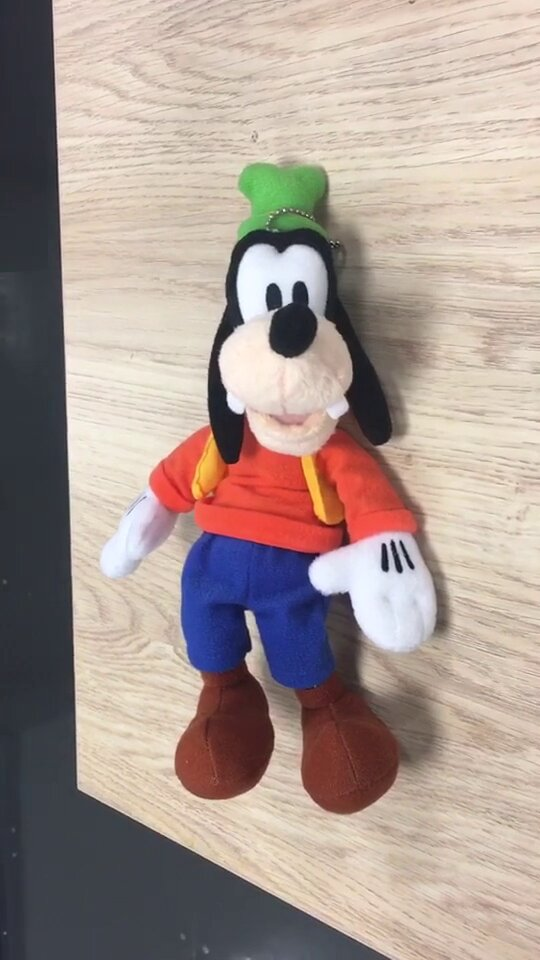goofy: (94, 161, 442, 818)
